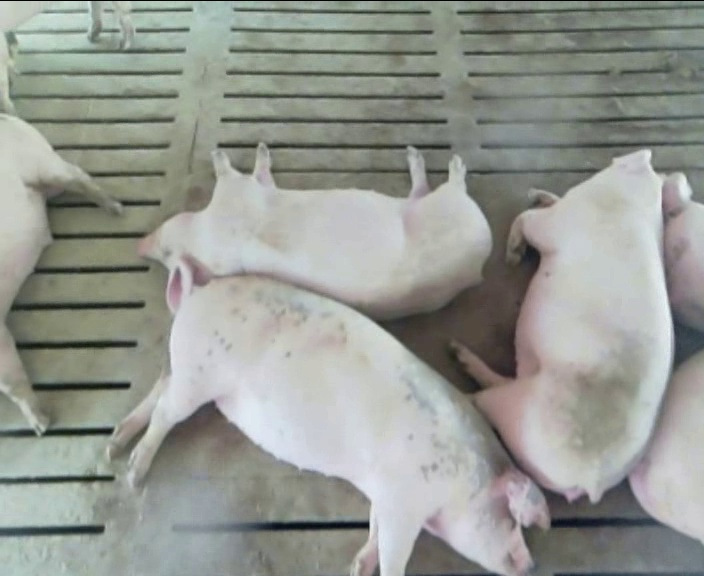pig: (109, 278, 548, 574), (454, 150, 691, 501), (139, 143, 491, 319)
